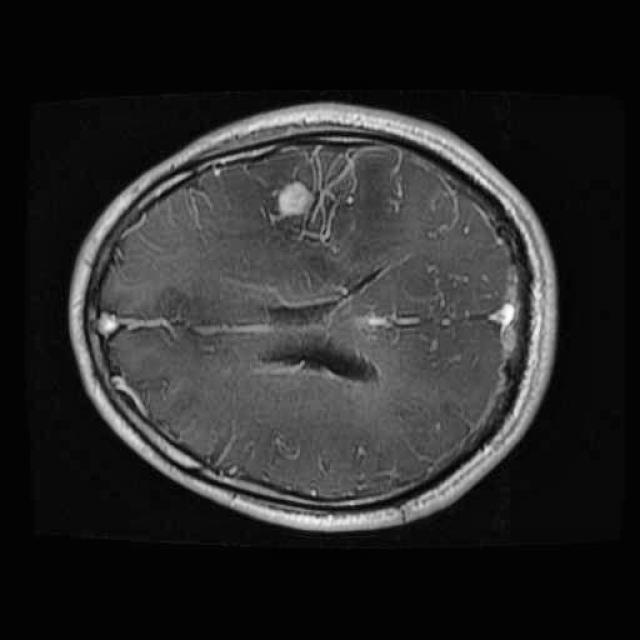Tumor: (248, 138, 374, 252)
